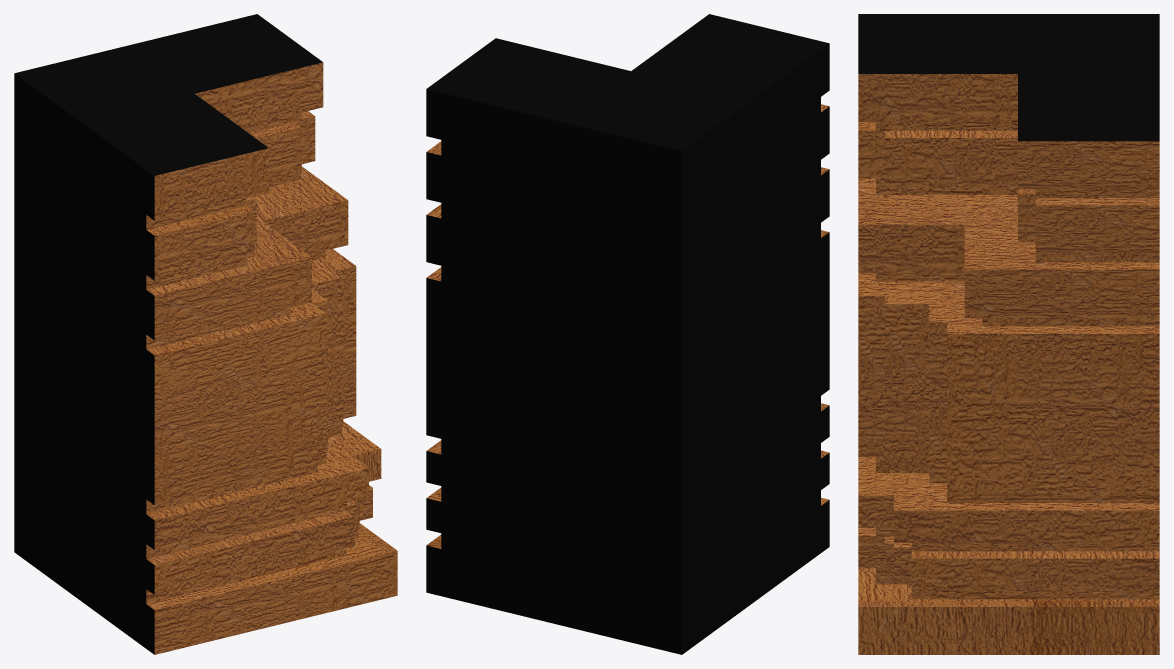
File: wallTilesCorner.fbx
3 views of the same model, side by side, from view 1: azimuth 30°, elevation 25°; view 2: azimuth 150°, elevation 25°; view 3: azimuth 270°, elevation 25° (orthographic). The views are drawn at different scales.
Visible parts, largest first — view 1: Cube.006; view 2: Cube.006; view 3: Cube.006.
Part boxes in pixels (box(x1,y1,x2,y2)): Cube.006: box(14, 14, 397, 654); Cube.006: box(426, 14, 829, 654); Cube.006: box(858, 14, 1159, 654).
Size of the model in its own units: 1.06 by 2 by 1.06.
